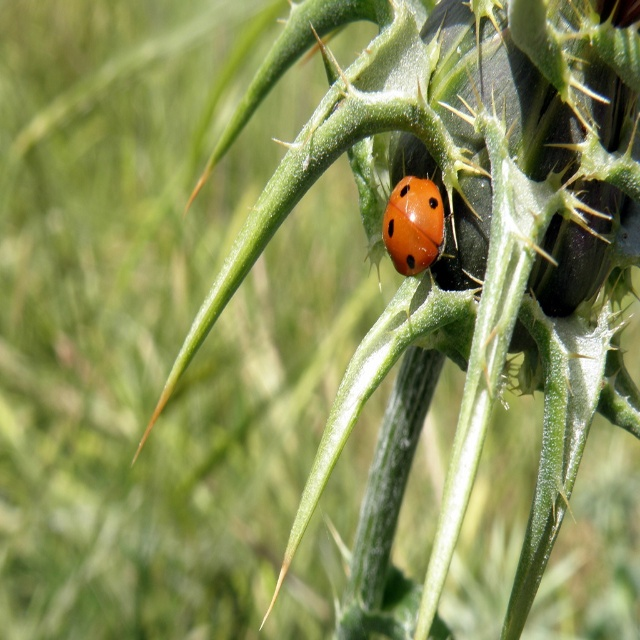Ladybug: (382, 173, 456, 275)
